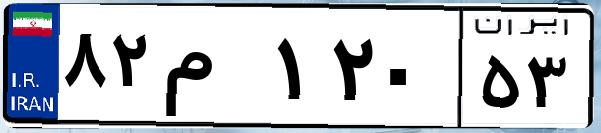0: (385, 28, 445, 110)
1: (270, 28, 330, 110)
2: (330, 28, 385, 110), (110, 28, 158, 98)
3: (525, 38, 570, 115)
5: (475, 38, 525, 113)
8: (57, 26, 110, 100)
م: (158, 20, 270, 120)
